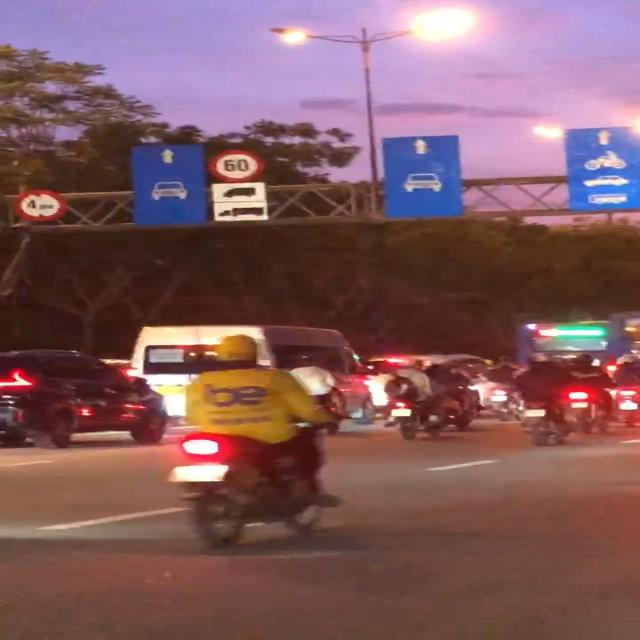Bien bao han che chieu cao: (18, 188, 76, 226)
Bien bao toc do toi da cho phep: (200, 148, 270, 184)
